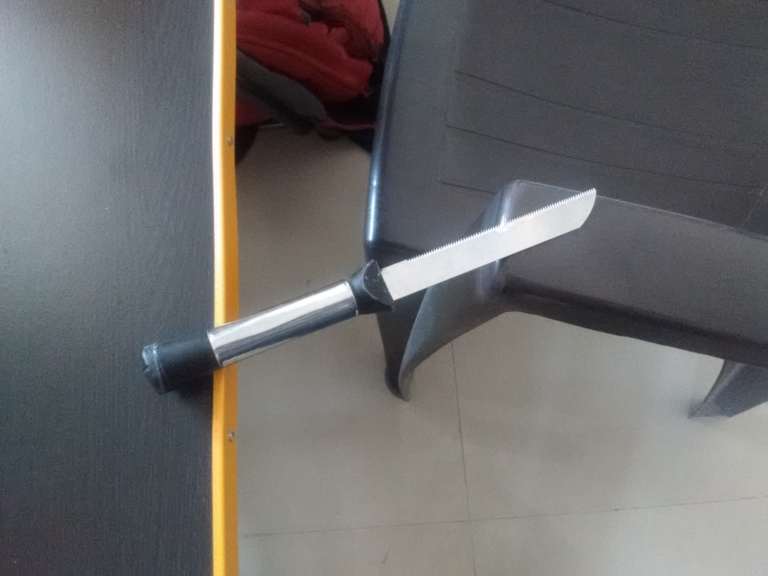knife: (138, 185, 600, 398)
